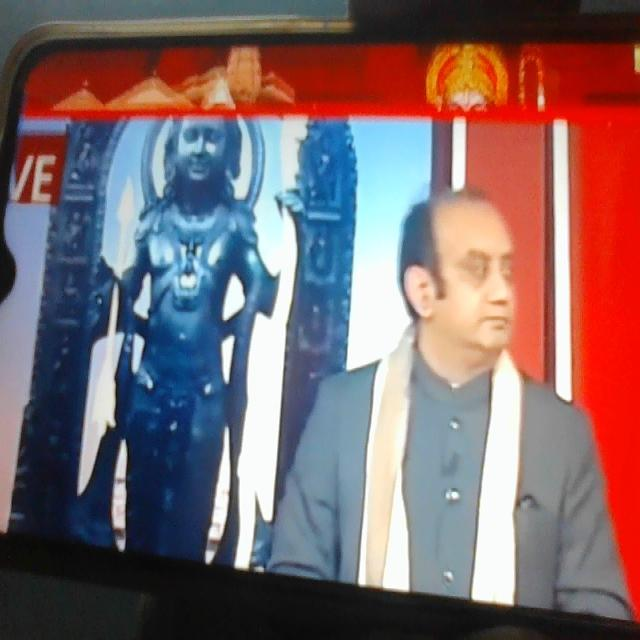fake: (412, 136, 540, 377)
